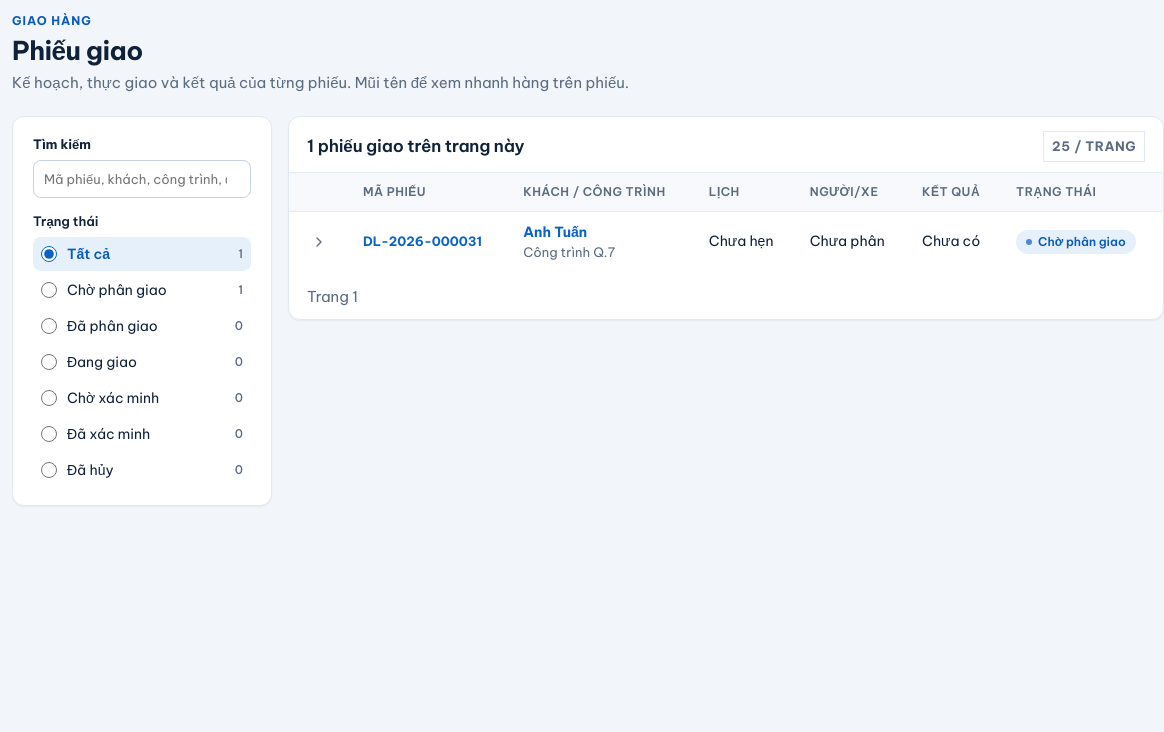
counts deliveries per state and opens the lines, with cancel for planned ones
This screenshot has width=1164, height=732.
Expected: the label "Chờ phân giao 1" is shown, [41,281,243,299]
Click the button named "Xem nhanh DL-2026-000031": (319, 242) [303,226,335,258]
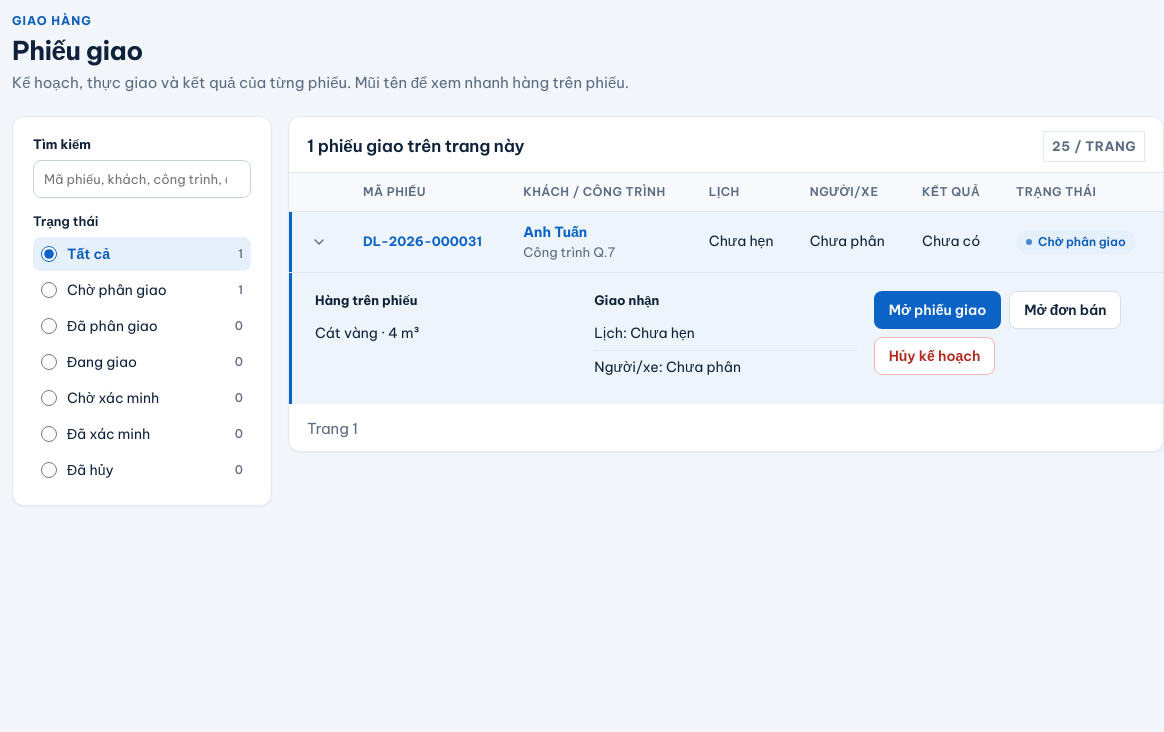
Result: the list item "Cát vàng · 4 m³" is shown at [315,324,420,342]
